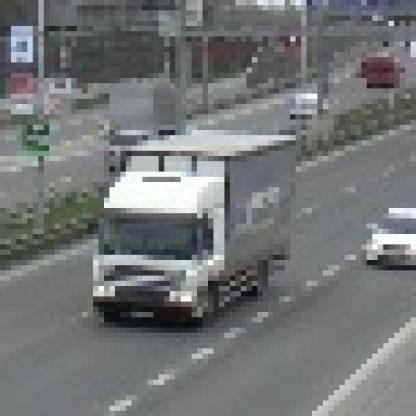truck: (83, 126, 302, 323)
